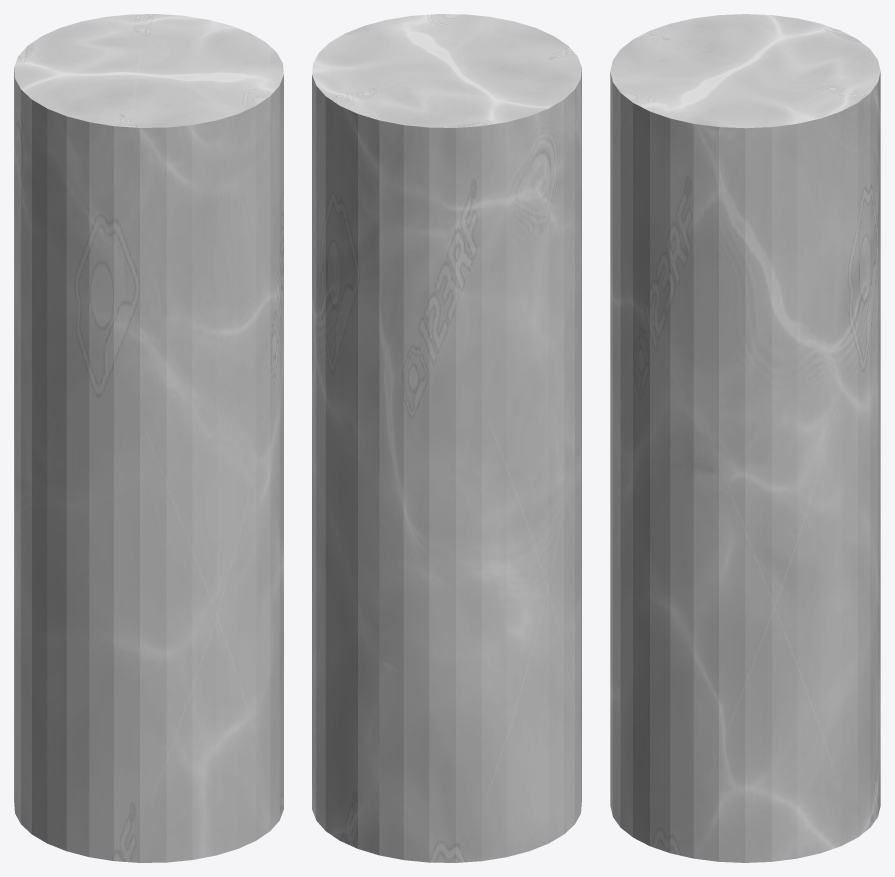
File: raindrop.obj
3 renders of one model, left to right at view 1: azimuth 30°, elevation 25°; view 2: azimuth 150°, elevation 25°; view 3: azimuth 270°, elevation 25°, orthographic.
Visible parts, largest first — view 1: Cylinder; view 2: Cylinder; view 3: Cylinder.
Boxes of the visible parts, <box> form: Cylinder: <box>14,14,283,862</box>; Cylinder: <box>312,14,581,862</box>; Cylinder: <box>610,14,880,862</box>.
Size of the model in its own units: 0.01 by 0.03 by 0.01.
Materials: 1 (1 with a texture image).
